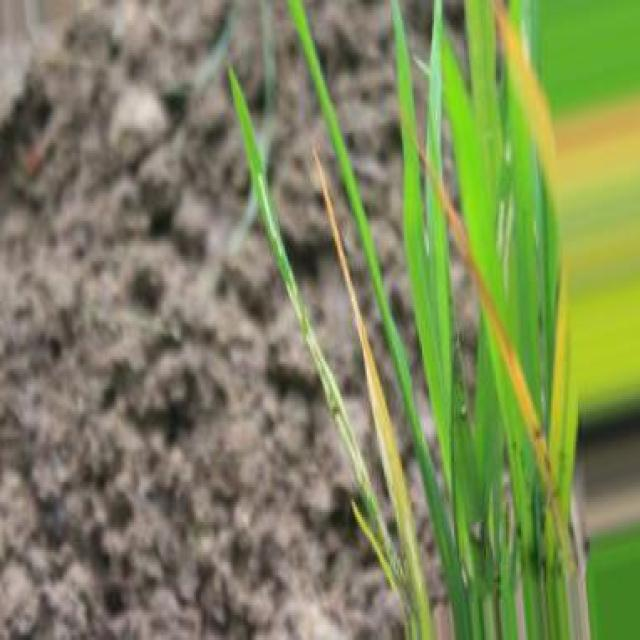Rice Tungro: (316, 154, 430, 639), (446, 195, 546, 478)
